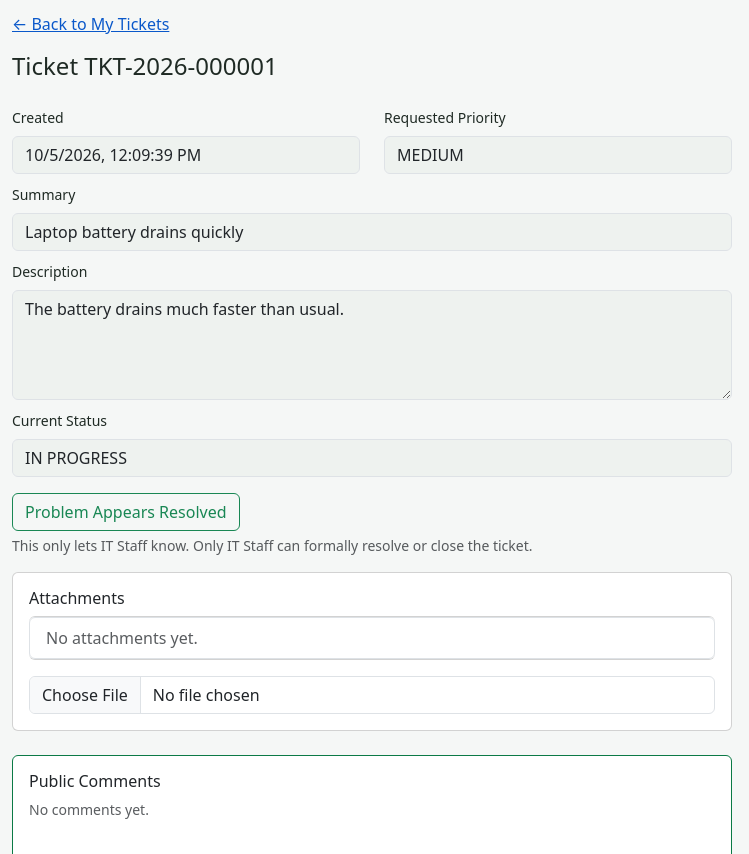
Test case: RequesterTicketDetail — Public Comments and Problem Appears Resolved (UI-07) › marks the problem as resolved and replaces the button with a confirmation
The width and height of the screenshot is (749, 854).
Click the button "Problem Appears Resolved".
click(126, 512)  # box [12, 493, 240, 531]
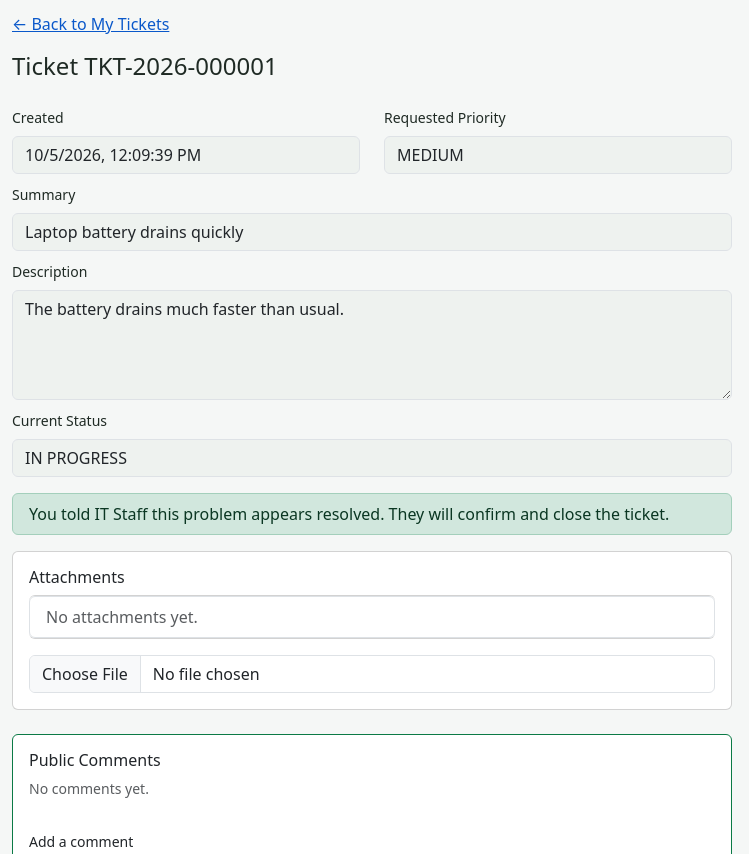
Expected: the text "You told IT Staff this problem appears resolved" is shown, [29, 503, 669, 525]
